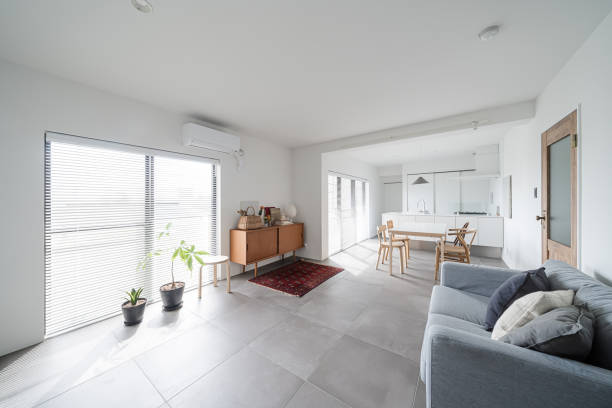dining table set: (376, 216, 478, 280)
large plant: (158, 222, 196, 311)
side table: (193, 247, 233, 300)
small plant: (122, 283, 147, 326)
sofa: (418, 256, 612, 408)
